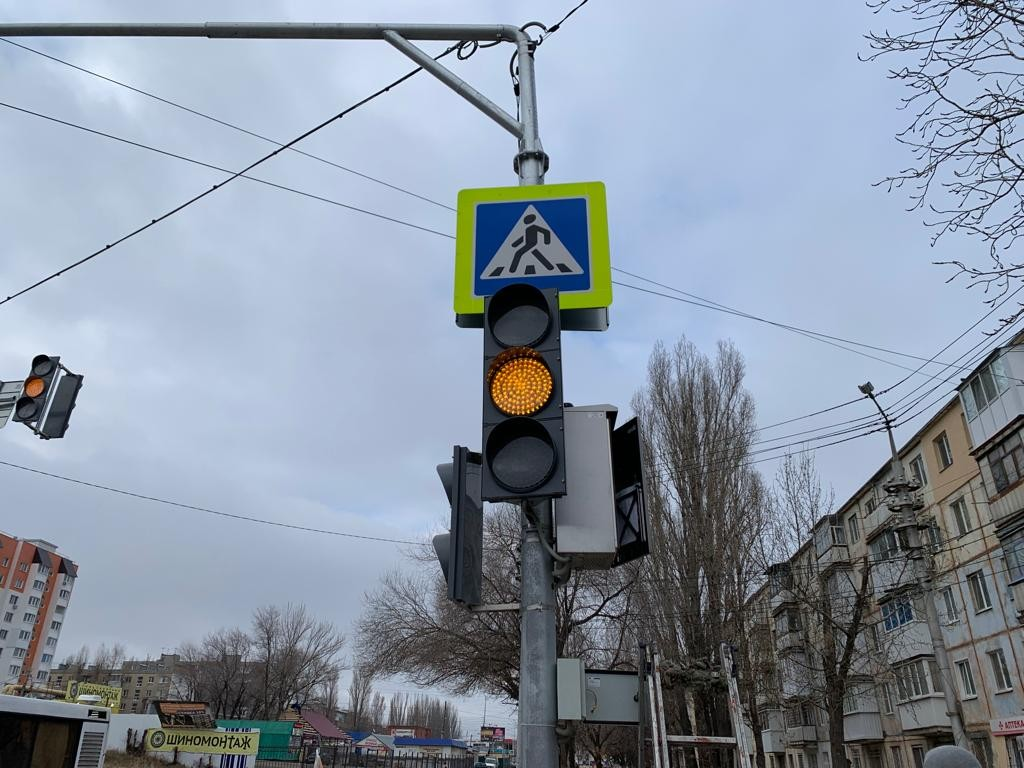tl: (478, 290, 572, 501), (430, 445, 484, 599), (13, 355, 57, 425)
